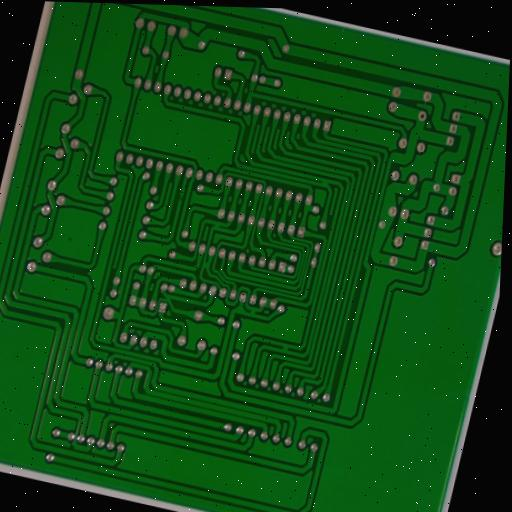short_circuit: (318, 176, 332, 191), (210, 219, 224, 234), (245, 307, 259, 321), (279, 342, 293, 355), (199, 259, 213, 272)
